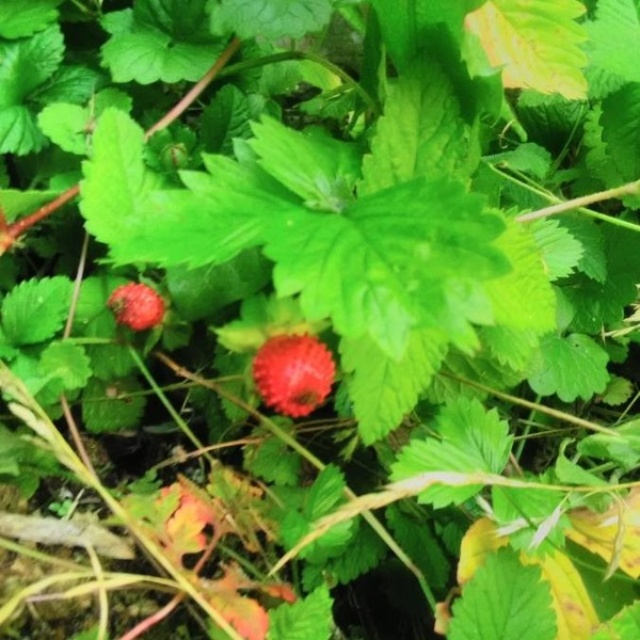obstacle: (17, 53, 521, 497)
